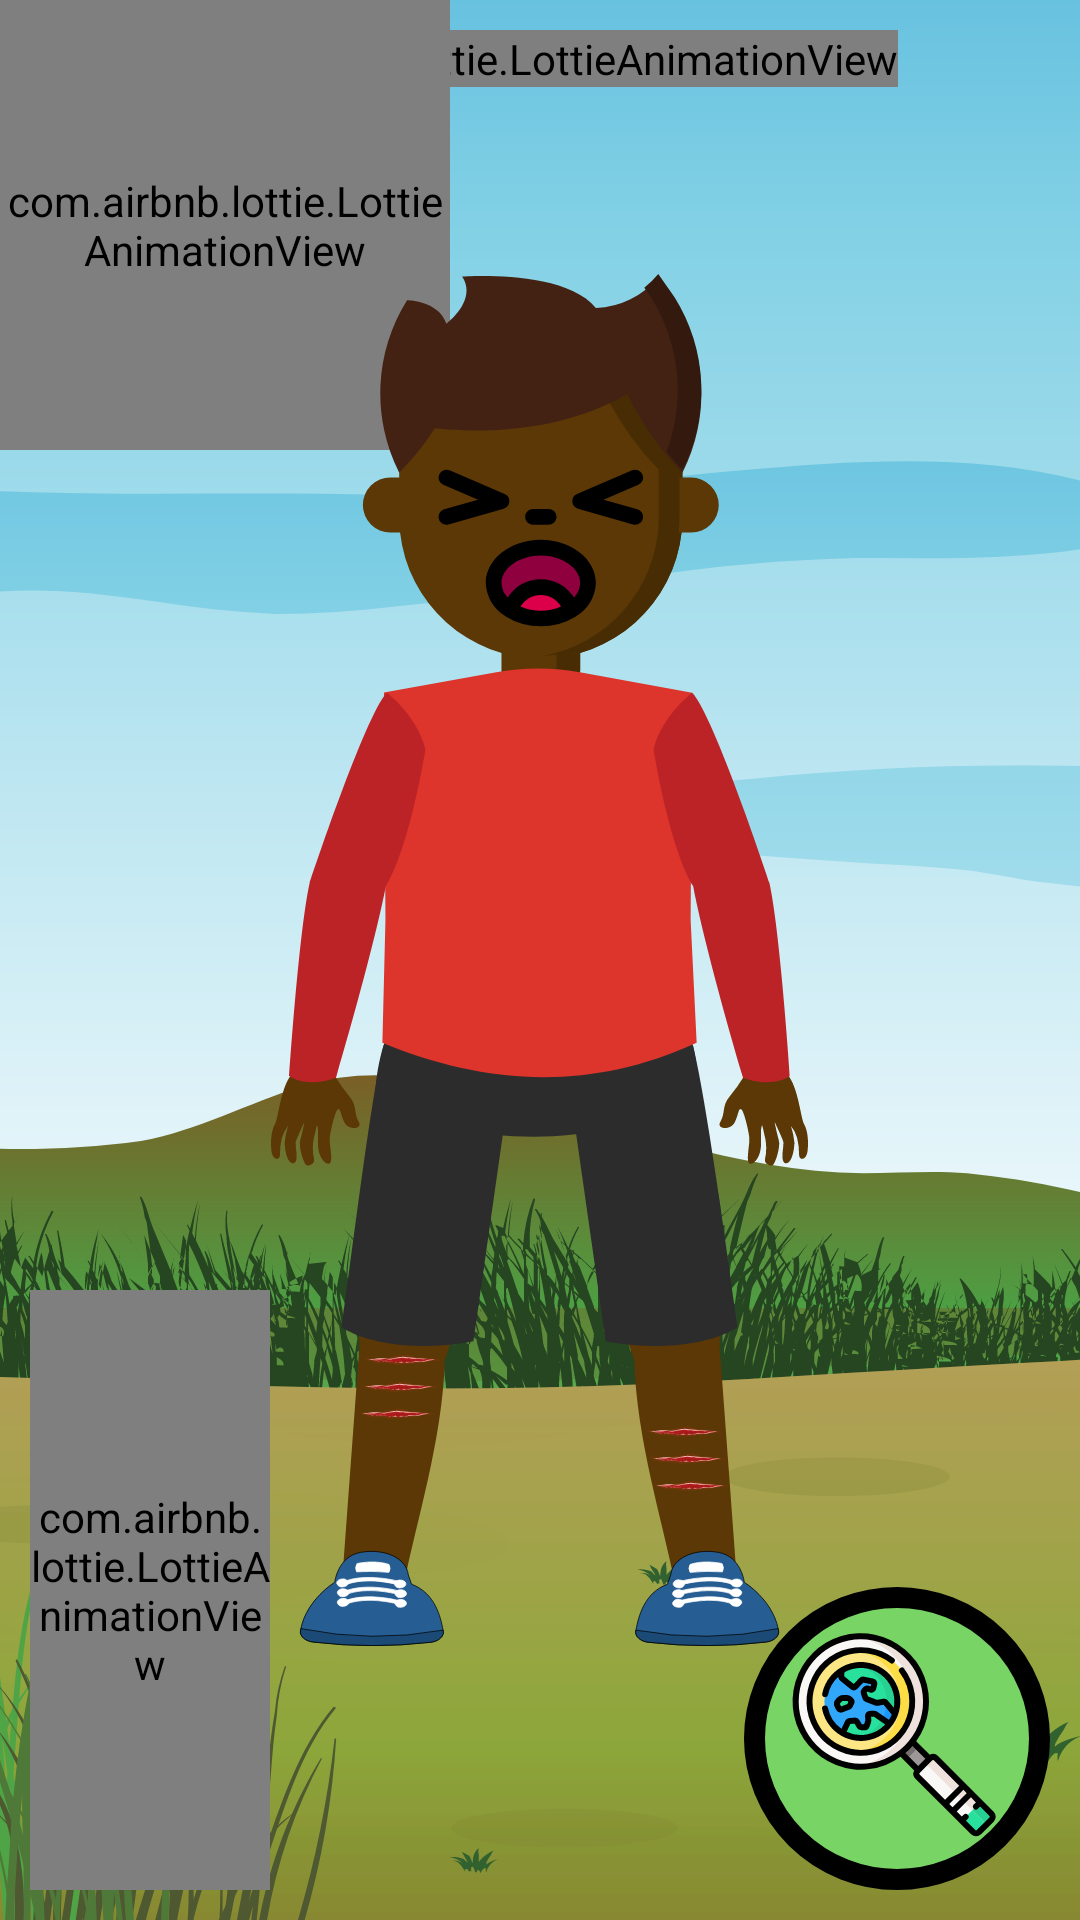

Where to tap for icons on this 1080 x 1920 app screen, as (x,y):
research: (897,1738)
